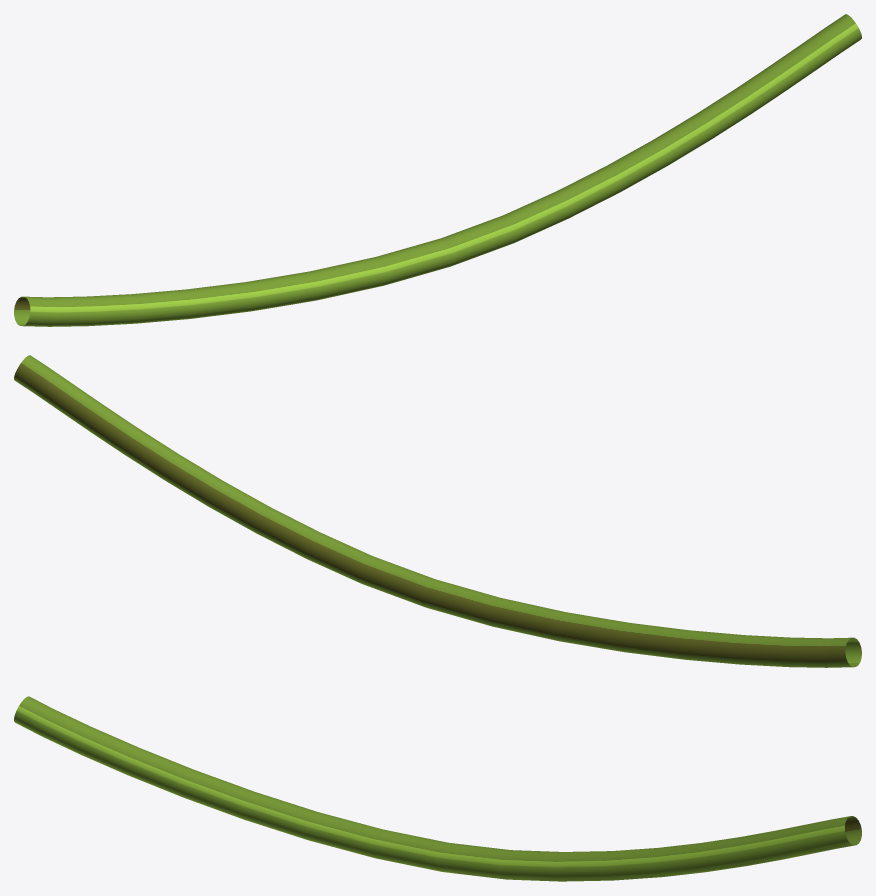
Rendered from SM_Wire_Big_Green.fbx.
3 renders of one model, top to bottom at view 1: azimuth 30°, elevation 25°; view 2: azimuth 150°, elevation 25°; view 3: azimuth 330°, elevation 25°, orthographic.
Parts seen in each view (by area): view 1: Sm_Wire_Big_Green; view 2: Sm_Wire_Big_Green; view 3: Sm_Wire_Big_Green.
Part boxes in pixels (x1,y1,x2,y2): Sm_Wire_Big_Green: (14, 14, 861, 326); Sm_Wire_Big_Green: (14, 355, 861, 667); Sm_Wire_Big_Green: (14, 696, 861, 881).
Size of the model in its own units: 7.76 by 1.37 by 44.05.
1 material, 1 textured.
